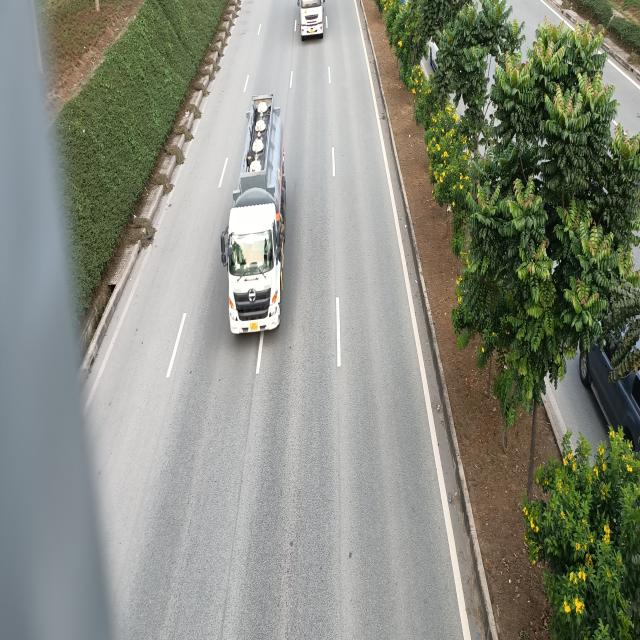container: (220, 93, 288, 336)
